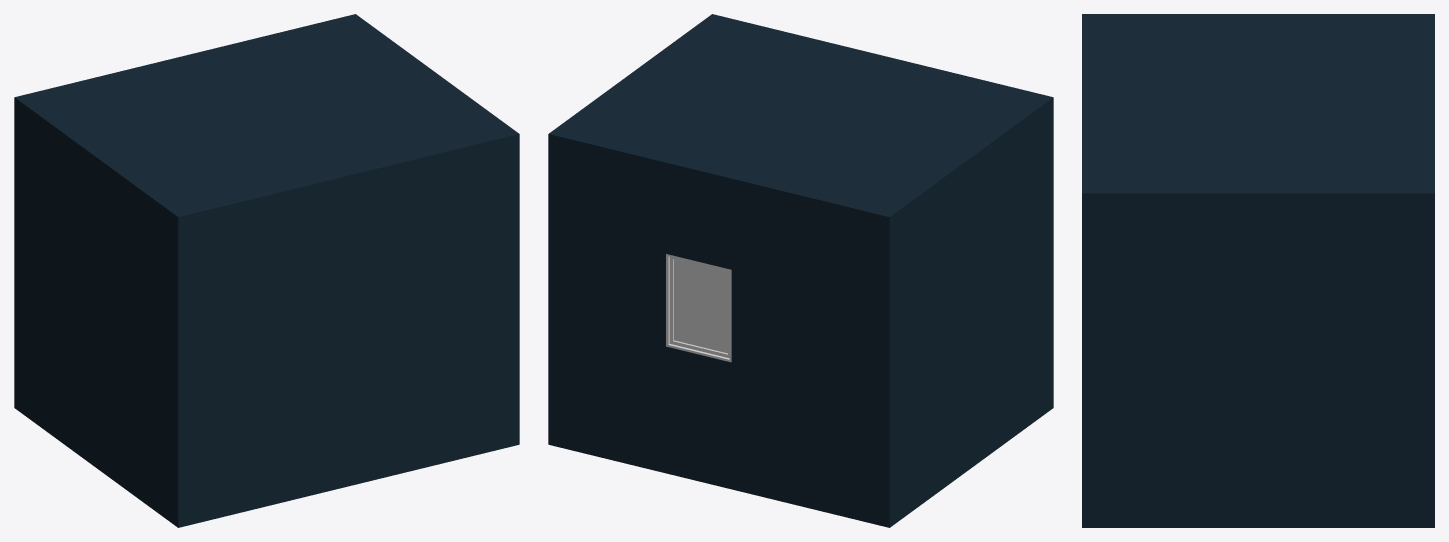
File: Room1.fbx
3 views of the same model, side by side, from view 1: azimuth 30°, elevation 25°; view 2: azimuth 150°, elevation 25°; view 3: azimuth 270°, elevation 25° (orthographic). The views are drawn at different scales.
Parts seen in each view (by area): view 1: Wall; view 2: Wall, Window_Glass, Window_OuterFrame, Window_Frame; view 3: Wall.
Boxes of the visible parts, box(x1,y1,x2,y2) form: Wall: box(14, 14, 519, 527); Wall: box(548, 14, 1053, 527); Window_Glass: box(674, 259, 727, 353); Window_OuterFrame: box(666, 254, 731, 362); Window_Frame: box(670, 256, 729, 358); Wall: box(1082, 14, 1434, 527).
Bounding box in the file's own units: 359 × 313 × 299.
